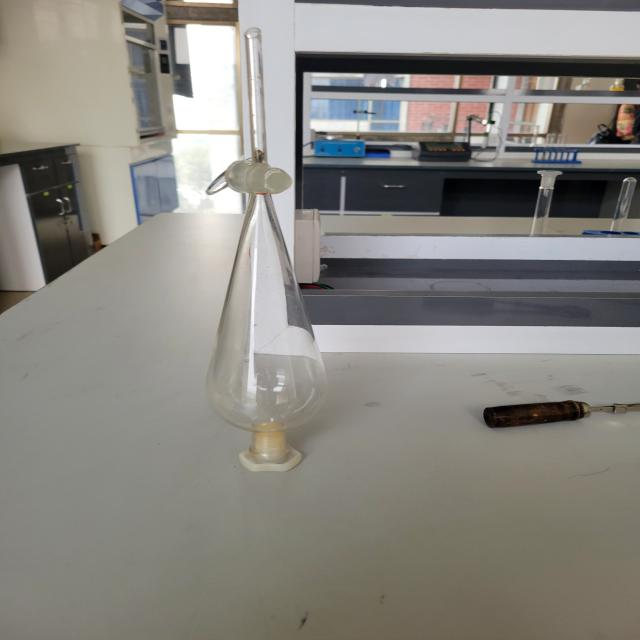Separating_Funnel: (176, 8, 355, 506)
